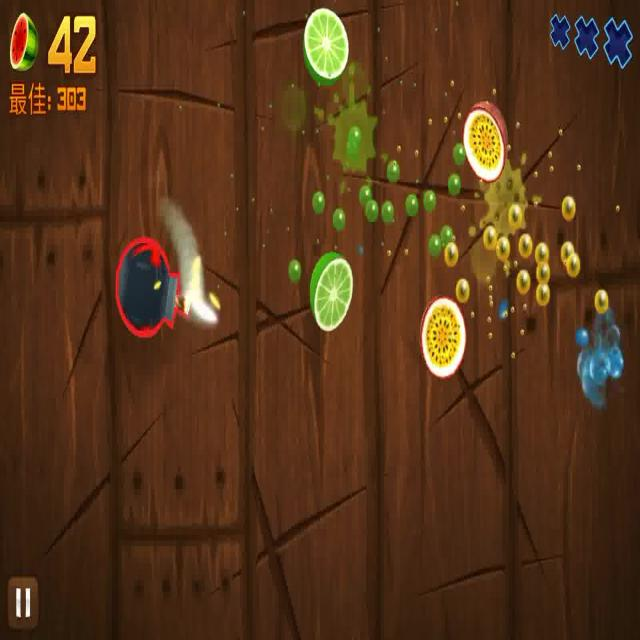bomb: (116, 226, 224, 352)
fruit: (462, 84, 513, 198), (294, 8, 352, 88)
